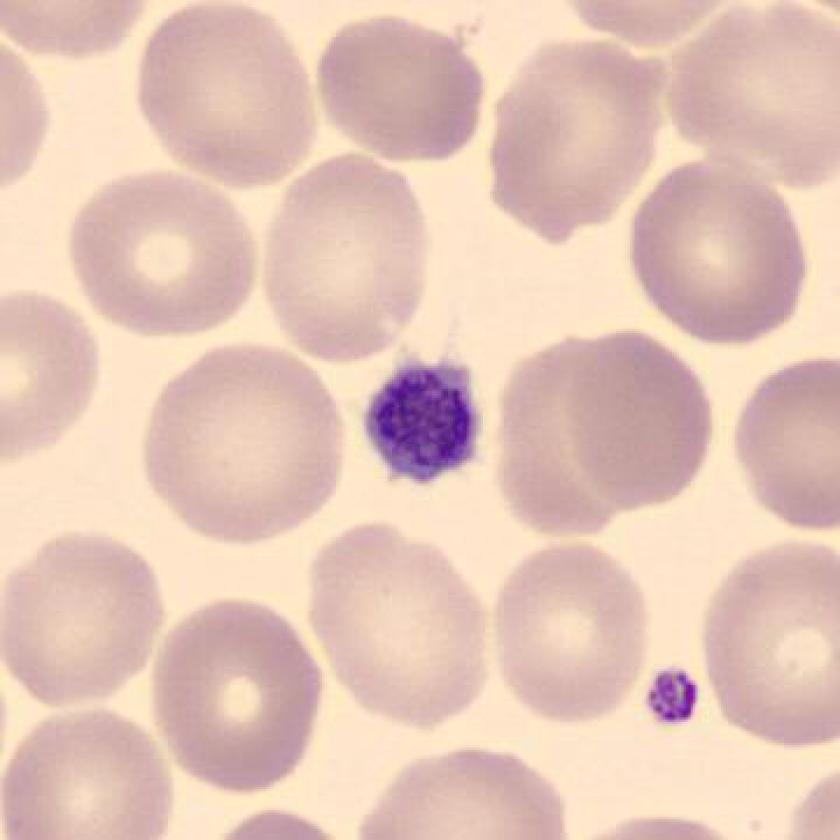platelets: (358, 344, 493, 496), (636, 656, 715, 744)
